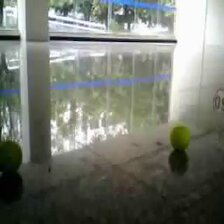tennis: (1, 138, 22, 173), (170, 124, 190, 150)
